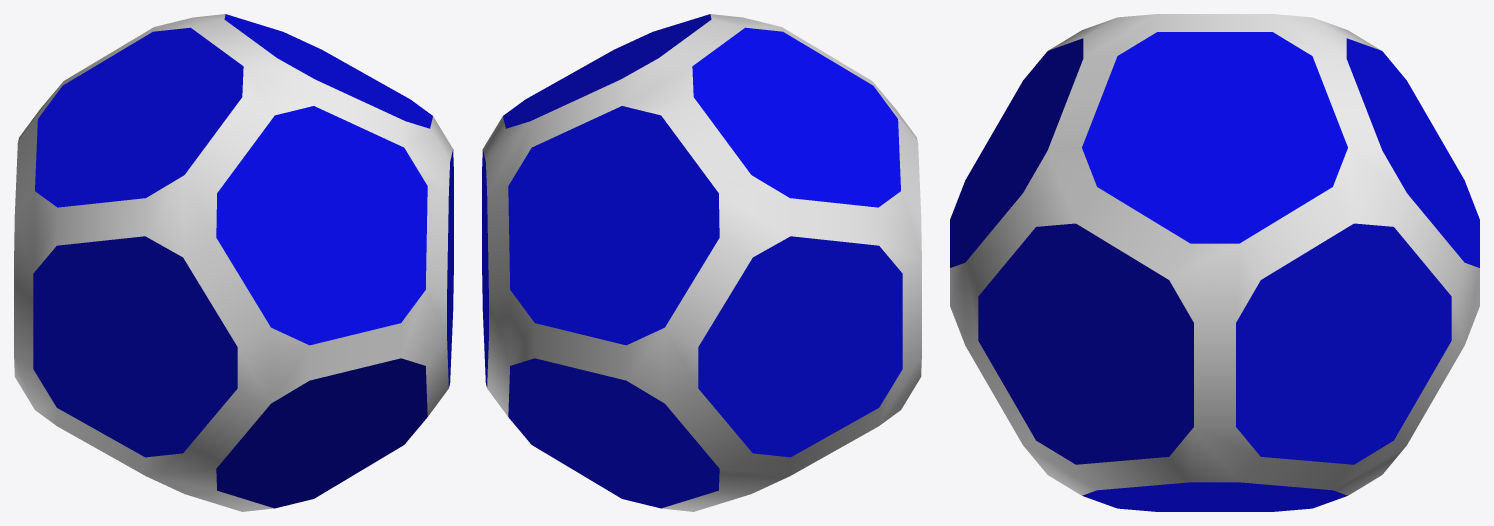
The model's file is D12_Beveled.fbx.
3 views of the same model, side by side, from view 1: azimuth 30°, elevation 25°; view 2: azimuth 150°, elevation 25°; view 3: azimuth 270°, elevation 25° (orthographic). The views are drawn at different scales.
Parts seen in each view (by area): view 1: D12_Beveled; view 2: D12_Beveled; view 3: D12_Beveled.
Boxes of the visible parts, x1,y1,x2,y2 form: D12_Beveled: (14,14,453,511); D12_Beveled: (482,14,921,511); D12_Beveled: (950,14,1479,511).
Bounding box in the file's own units: 126 × 126 × 126.
